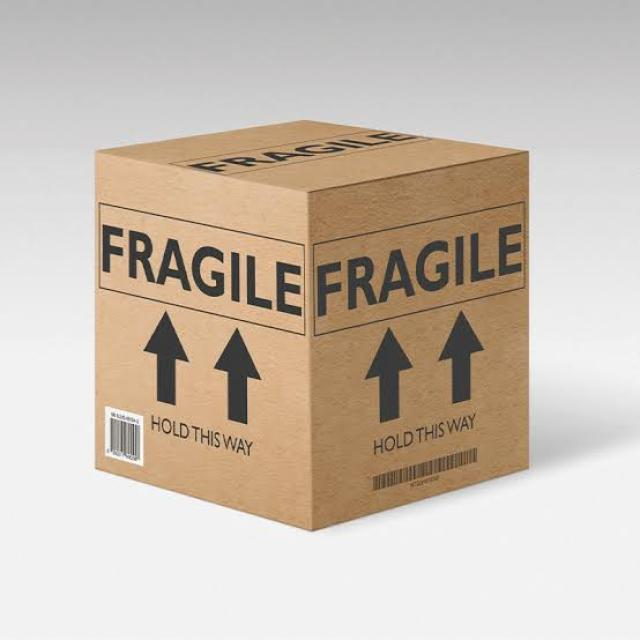fragile_label: (94, 199, 316, 342), (308, 218, 532, 313), (168, 118, 420, 189)
this_side_up_label: (118, 287, 285, 452), (352, 309, 506, 461)
